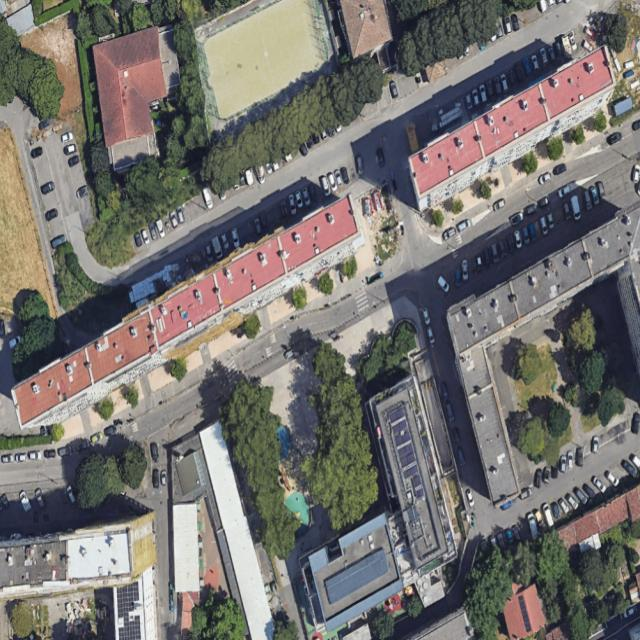immeuble: (2, 191, 375, 441), (393, 45, 632, 211), (282, 479, 478, 637), (438, 204, 640, 356), (362, 378, 462, 584), (446, 298, 519, 505)
